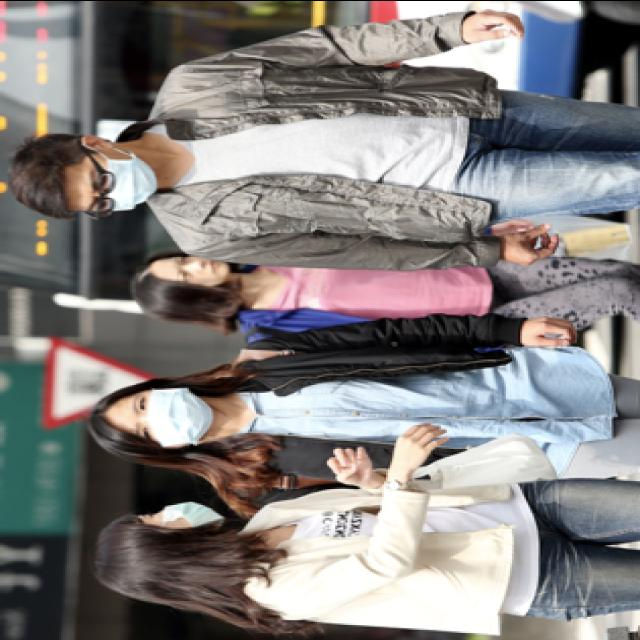mask: (126, 384, 212, 448), (75, 144, 157, 211), (134, 498, 222, 530)
no_mask: (165, 250, 228, 284)
